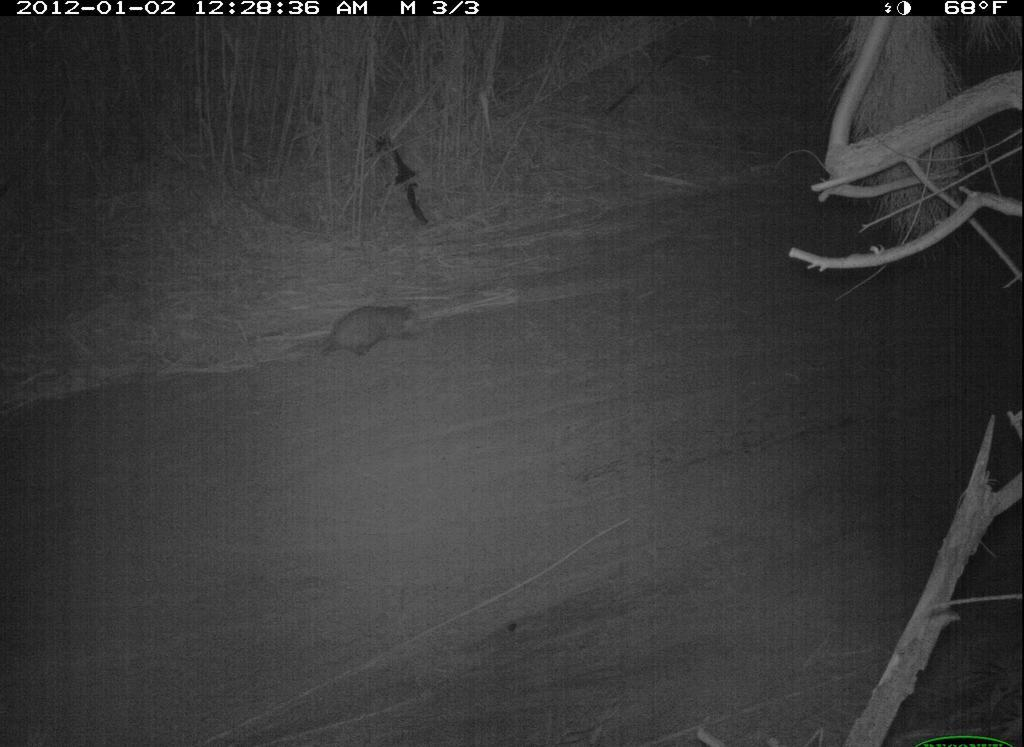opossum: (296, 296, 428, 372)
